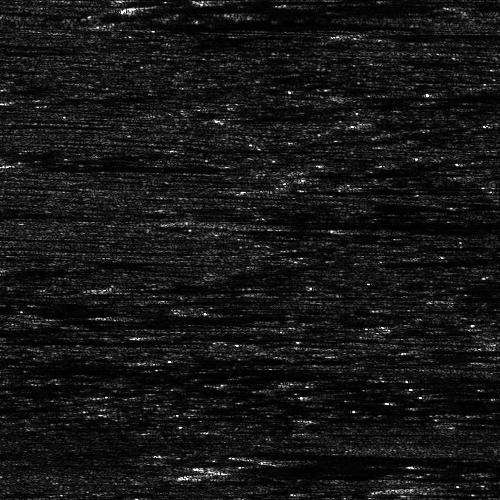object: (235, 170, 328, 211), (169, 453, 252, 480), (240, 446, 323, 471), (158, 462, 241, 487), (82, 281, 155, 292), (402, 483, 475, 492), (337, 29, 420, 36), (0, 160, 63, 169), (217, 217, 248, 228), (136, 356, 199, 361), (113, 19, 134, 28), (293, 416, 334, 419), (0, 337, 14, 342)
shadow: (211, 453, 500, 480), (199, 462, 500, 487), (282, 446, 500, 471), (282, 170, 407, 211), (232, 217, 500, 228), (124, 19, 361, 28), (119, 281, 298, 292), (27, 160, 203, 169), (0, 379, 68, 394), (168, 356, 351, 361), (379, 29, 500, 36), (0, 337, 155, 342), (438, 483, 500, 492), (314, 416, 380, 419)
